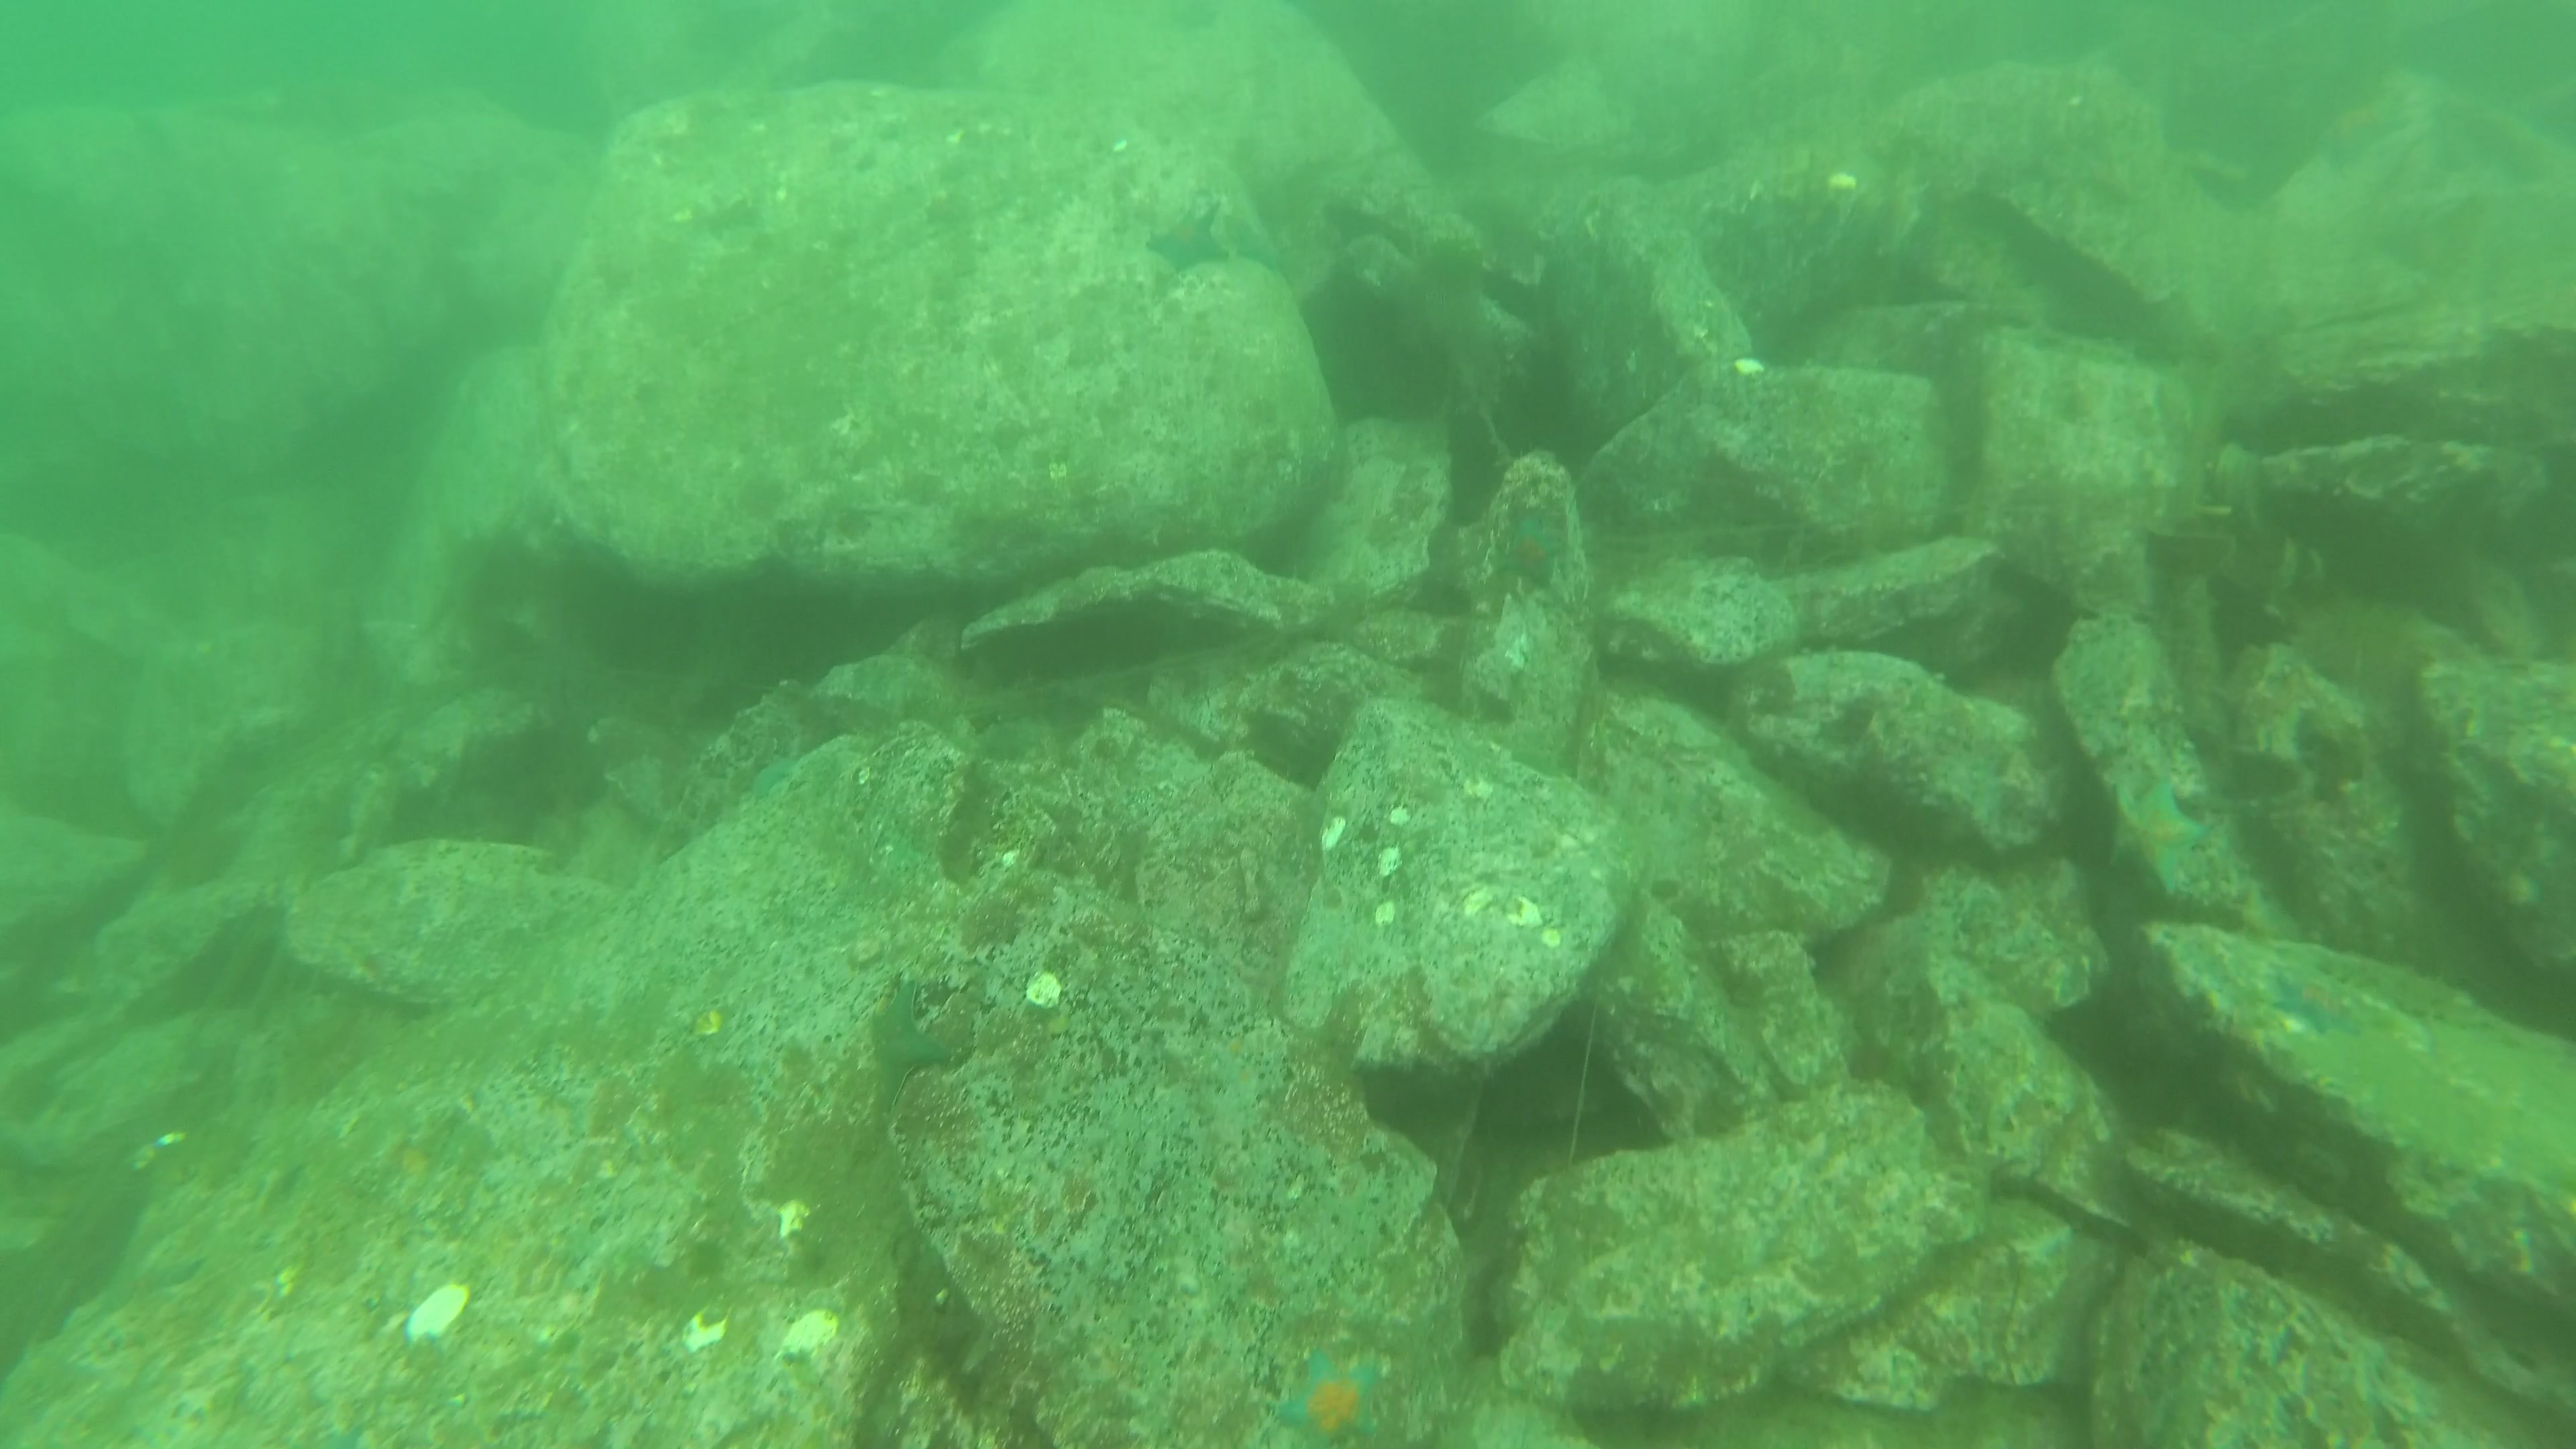starfish: (2109, 786, 2208, 897), (872, 982, 947, 1116), (1276, 1355, 1380, 1449), (1148, 200, 1230, 276), (2270, 977, 2362, 1039), (1499, 520, 1560, 586)
